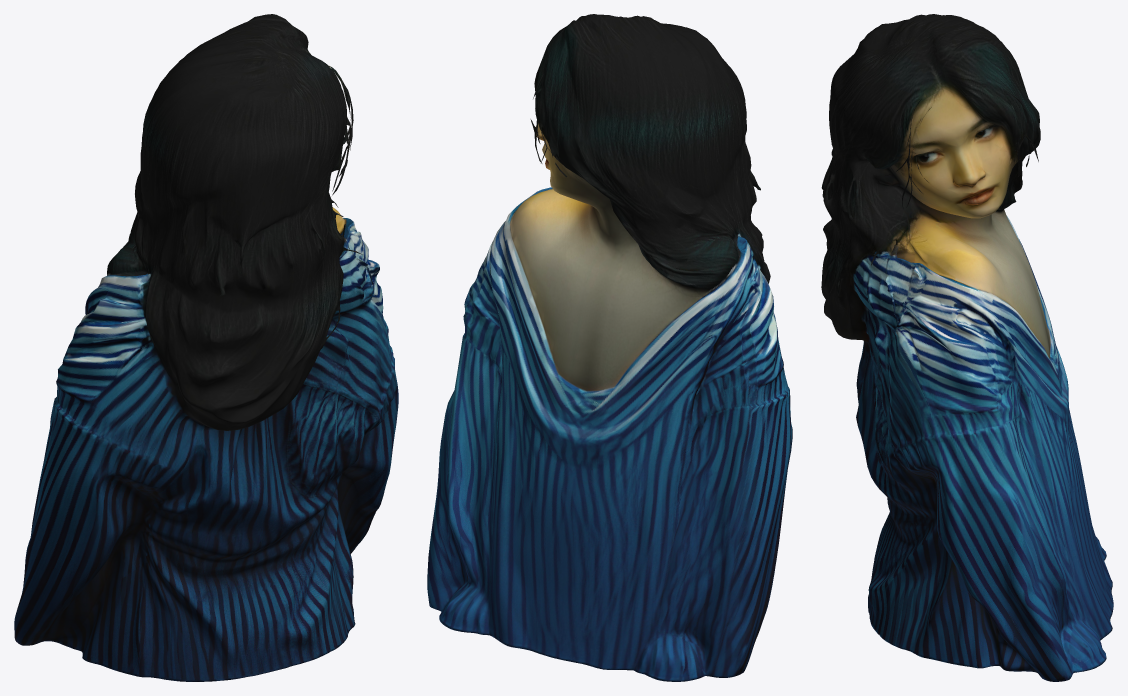
The picture shows the model from 3 angles, left to right: view 1: azimuth 30°, elevation 25°; view 2: azimuth 150°, elevation 25°; view 3: azimuth 270°, elevation 25°; orthographic projection. The views are drawn at different scales.
Parts seen in each view (by area): view 1: tripo_node_73f340a9-5849-438a-9164-adcdf715b415; view 2: tripo_node_73f340a9-5849-438a-9164-adcdf715b415; view 3: tripo_node_73f340a9-5849-438a-9164-adcdf715b415.
Boxes of the visible parts, bbox=[...] form: tripo_node_73f340a9-5849-438a-9164-adcdf715b415: bbox=[14, 14, 398, 681]; tripo_node_73f340a9-5849-438a-9164-adcdf715b415: bbox=[427, 14, 792, 681]; tripo_node_73f340a9-5849-438a-9164-adcdf715b415: bbox=[821, 14, 1113, 681].
Bounding box in the file's own units: 0.5857 × 0.9928 × 0.4449.
1 material, 1 textured.
